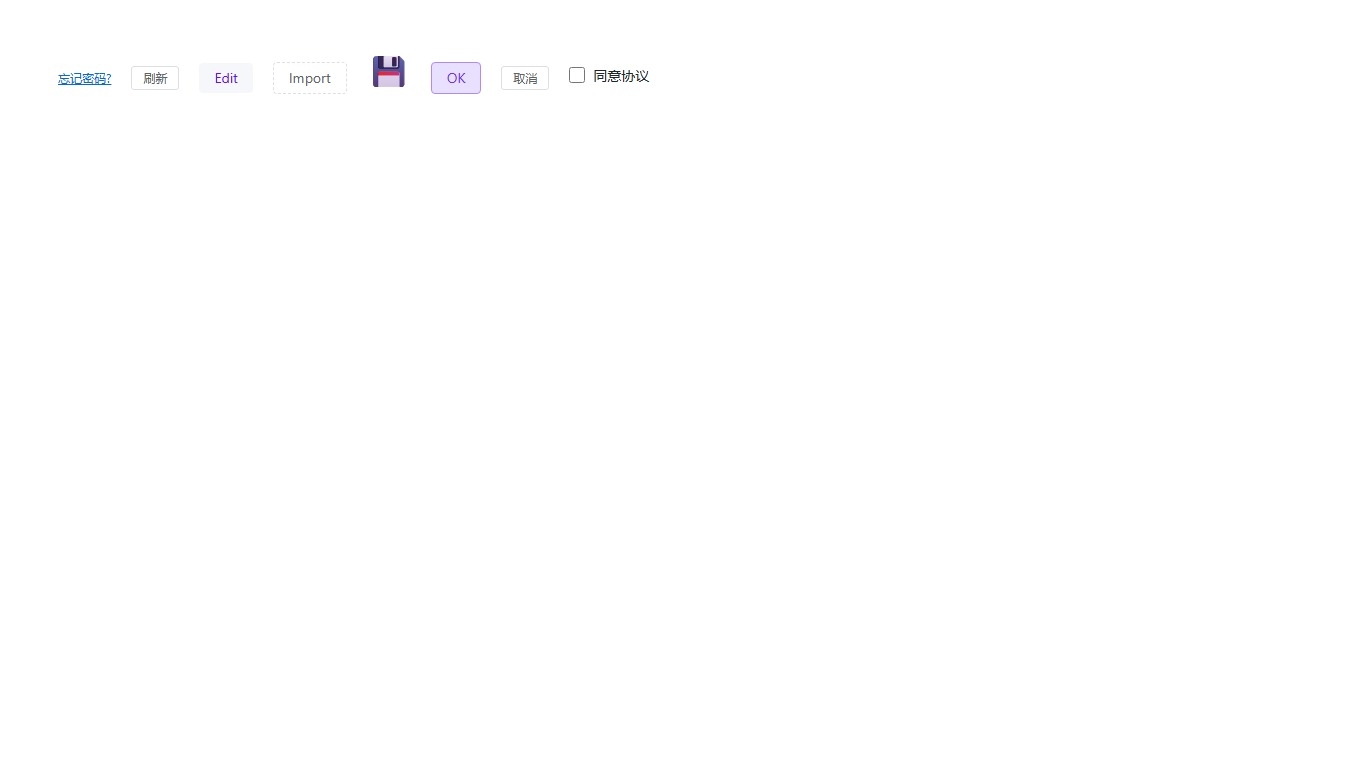button: (273, 62, 347, 94), (199, 63, 253, 93), (431, 62, 481, 94), (131, 66, 179, 90), (501, 66, 549, 90)
checkbox: (569, 67, 585, 83)
icon: (367, 54, 411, 86), (593, 65, 649, 84)
link: (58, 70, 111, 86)
radio: (569, 65, 649, 84)
